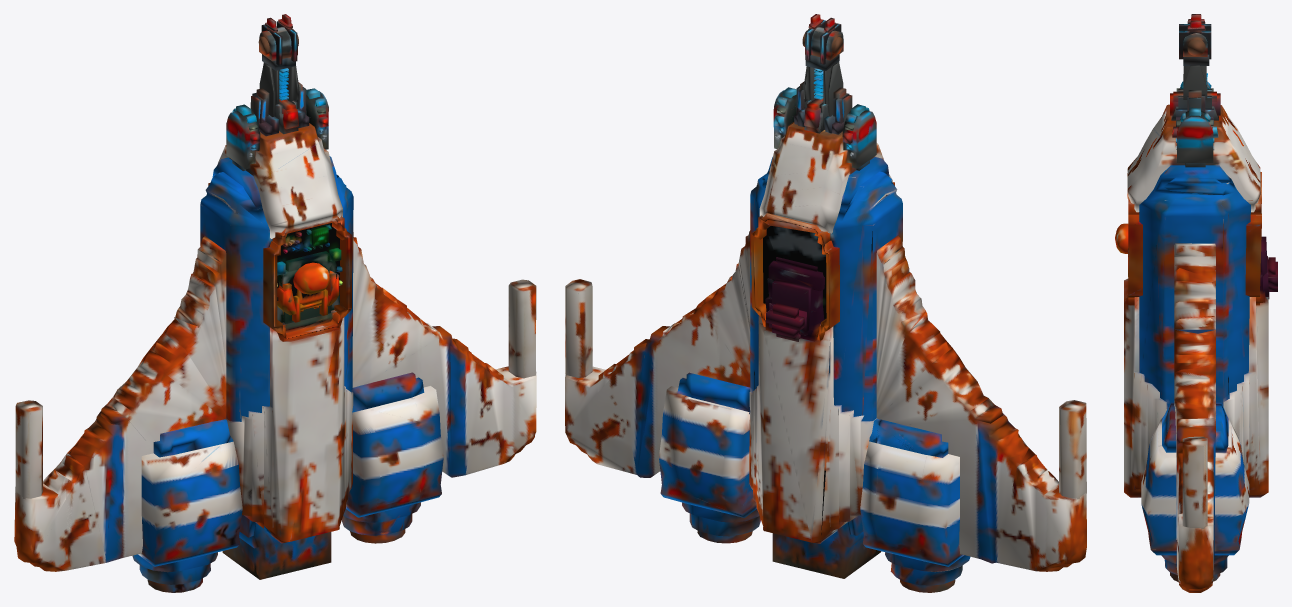
Rendered from player_ship.glb.
3 views of the same model, side by side, from view 1: azimuth 30°, elevation 25°; view 2: azimuth 150°, elevation 25°; view 3: azimuth 270°, elevation 25° (orthographic). The views are drawn at different scales.
Visible parts, largest first — view 1: geometry_0; view 2: geometry_0; view 3: geometry_0.
Boxes of the visible parts, x1,y1,x2,y2 form: geometry_0: [14, 14, 536, 592]; geometry_0: [565, 14, 1086, 592]; geometry_0: [1115, 14, 1277, 592].
Bounding box in the file's own units: 0.9502 × 0.9502 × 0.2744.
Materials: 1 (1 with a texture image).
